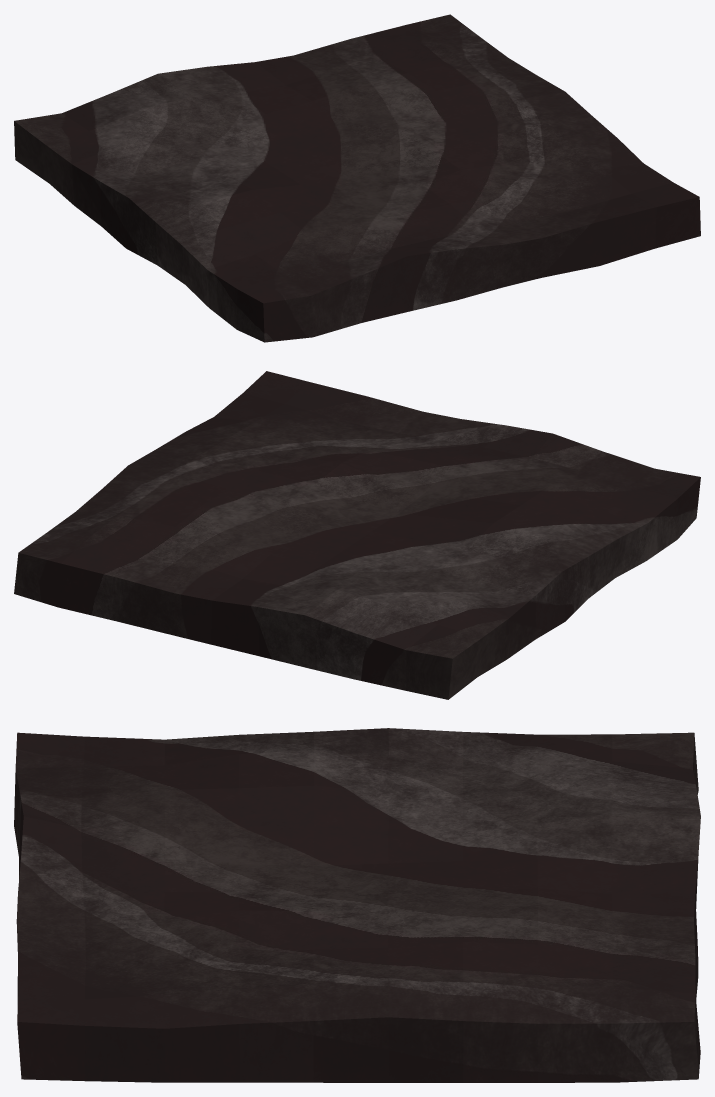
Rendered from lavaBurningTile.obj.
The picture shows the model from 3 angles, top to bottom: view 1: azimuth 30°, elevation 25°; view 2: azimuth 150°, elevation 25°; view 3: azimuth 270°, elevation 25°; orthographic projection. The views are drawn at different scales.
Visible parts, largest first — view 1: TileAbleBasePiece; view 2: TileAbleBasePiece; view 3: TileAbleBasePiece.
Part boxes in pixels (x1,y1,x2,y2): TileAbleBasePiece: (14,14,700,342); TileAbleBasePiece: (14,371,700,699); TileAbleBasePiece: (14,728,700,1082).
Bounding box in the file's own units: 58.28 × 7.29 × 57.58.
1 material, 1 textured.
